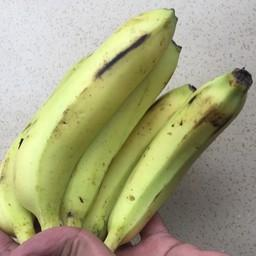Good_banana: (14, 11, 175, 218), (110, 73, 244, 245), (69, 45, 178, 224)
